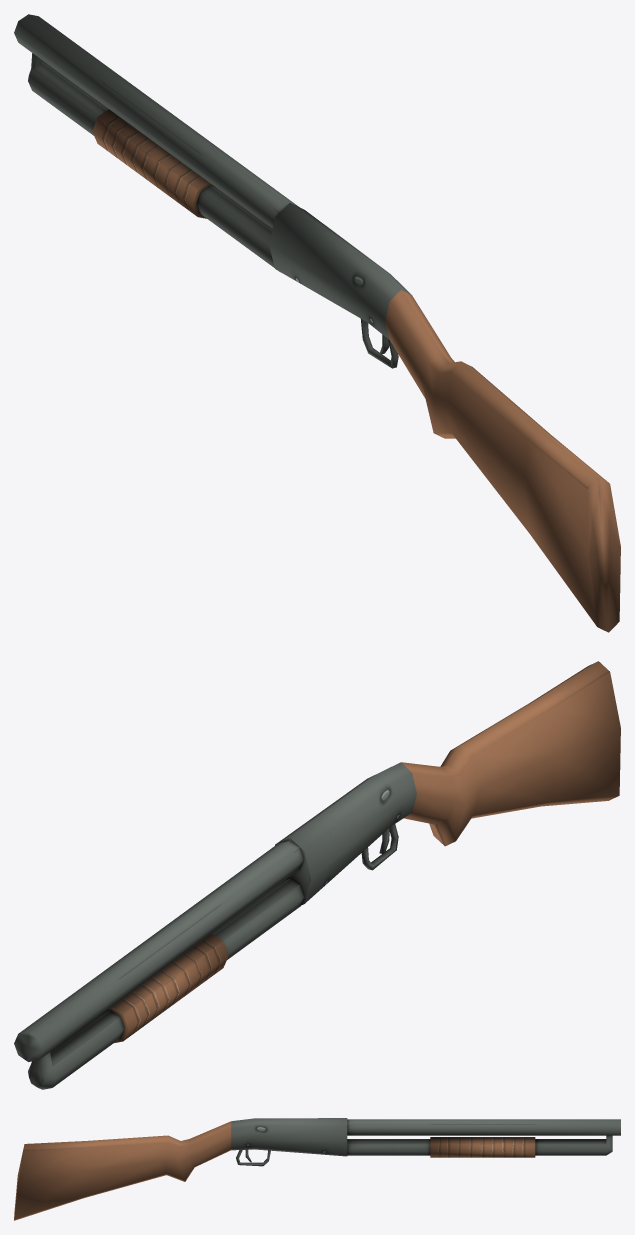
Rendered from LowPolyShoty.fbx.
3 renders of one model, top to bottom at view 1: azimuth 30°, elevation 25°; view 2: azimuth 150°, elevation 25°; view 3: azimuth 270°, elevation 25°, orthographic. The views are drawn at different scales.
Visible parts, largest first — view 1: Cylinder; view 2: Cylinder; view 3: Cylinder.
Boxes of the visible parts, x1,y1,x2,y2 form: Cylinder: (14,14,620,632); Cylinder: (14,661,620,1089); Cylinder: (14,1118,620,1220).
Size of the model in its own units: 231 by 1039 by 5553.
